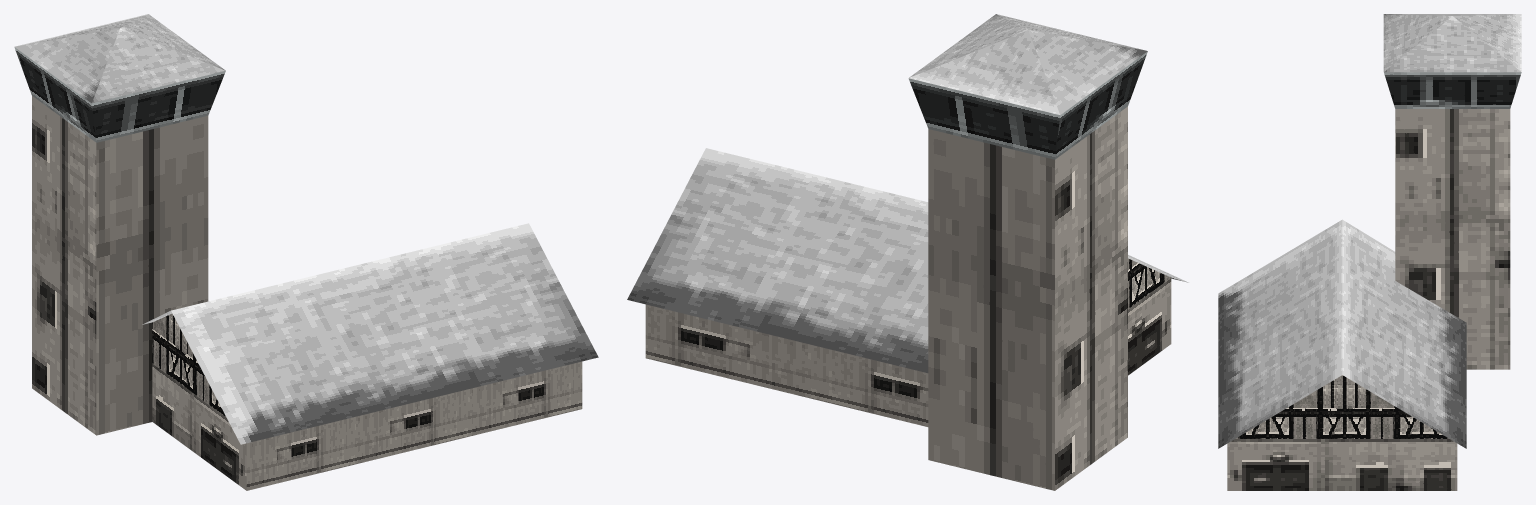
Rendered from uvmd-0188.glb.
The picture shows the model from 3 angles, left to right: view 1: azimuth 30°, elevation 25°; view 2: azimuth 150°, elevation 25°; view 3: azimuth 270°, elevation 25°; orthographic projection. The views are drawn at different scales.
Visible parts, largest first — view 1: uvmd-0188; view 2: uvmd-0188; view 3: uvmd-0188.
Boxes of the visible parts, x1,y1,x2,y2 form: uvmd-0188: [14, 14, 598, 490]; uvmd-0188: [627, 14, 1188, 490]; uvmd-0188: [1218, 14, 1521, 490].
Size of the model in its own units: 370 by 316 by 264.
3 materials, 3 textured.
